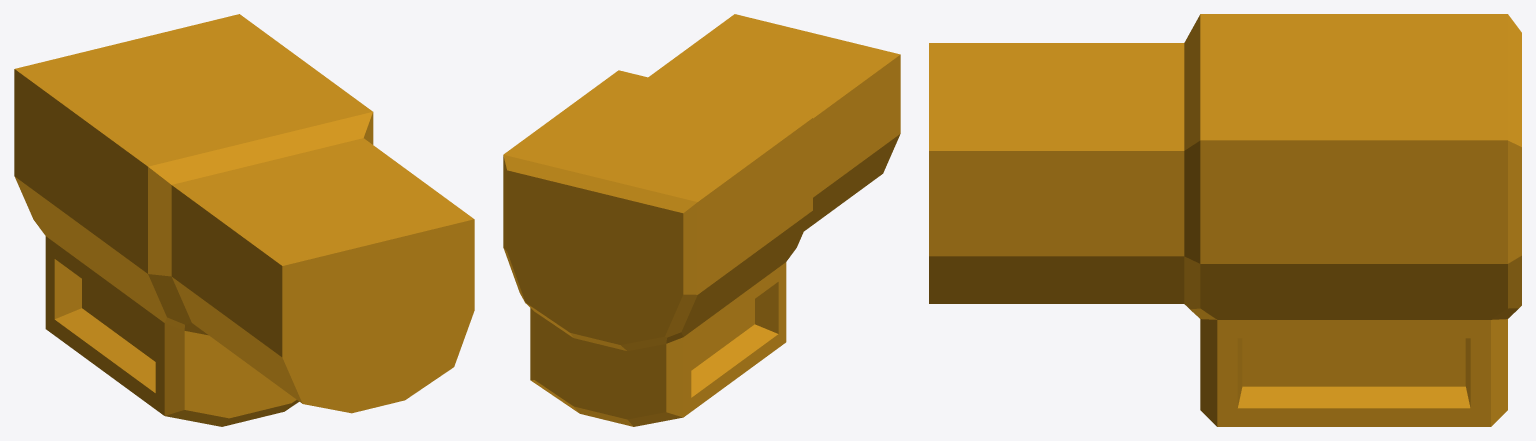
Rendered from Personal_Vehicle_04_Central_Hub_Yellow.fbx.
3 renders of one model, left to right at view 1: azimuth 30°, elevation 25°; view 2: azimuth 150°, elevation 25°; view 3: azimuth 270°, elevation 25°, orthographic. The views are drawn at different scales.
Parts seen in each view (by area): view 1: Personal_Vehicle_04_Central_Hub_Yellow; view 2: Personal_Vehicle_04_Central_Hub_Yellow; view 3: Personal_Vehicle_04_Central_Hub_Yellow.
Part boxes in pixels (x1=…): Personal_Vehicle_04_Central_Hub_Yellow: x1=14, y1=14, x2=474, y2=426; Personal_Vehicle_04_Central_Hub_Yellow: x1=503, y1=14, x2=900, y2=426; Personal_Vehicle_04_Central_Hub_Yellow: x1=929, y1=14, x2=1521, y2=426.
Bounding box in the file's own units: 45.36 × 54.97 × 89.88.
1 material, 1 textured.
